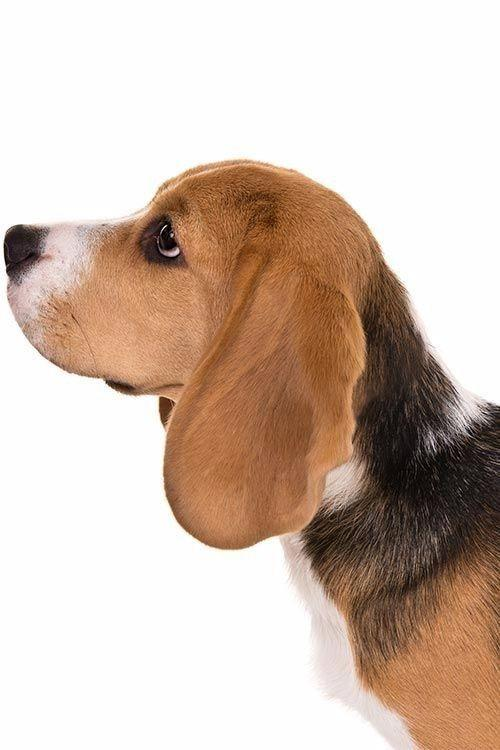puppy-dog: (3, 159, 500, 750)
